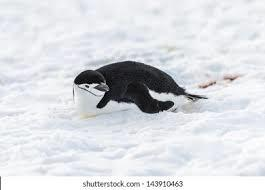chinstrap: (61, 48, 221, 134)
